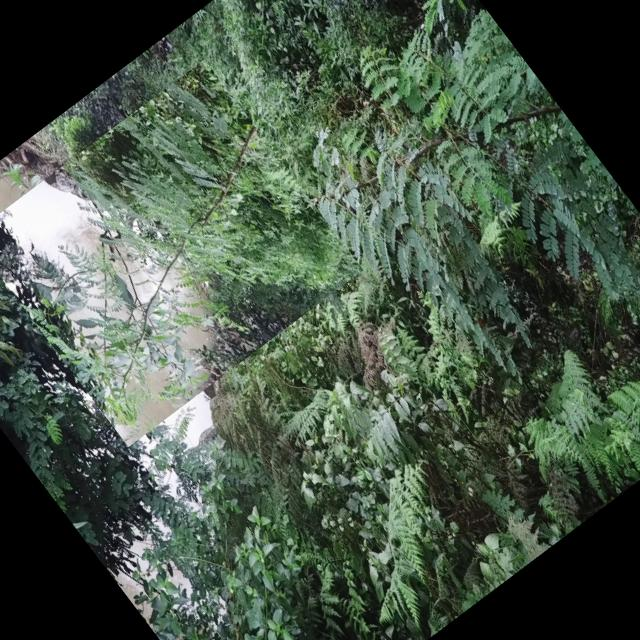Mysore-Thorn-Weed: (255, 0, 640, 408), (0, 58, 363, 446)
